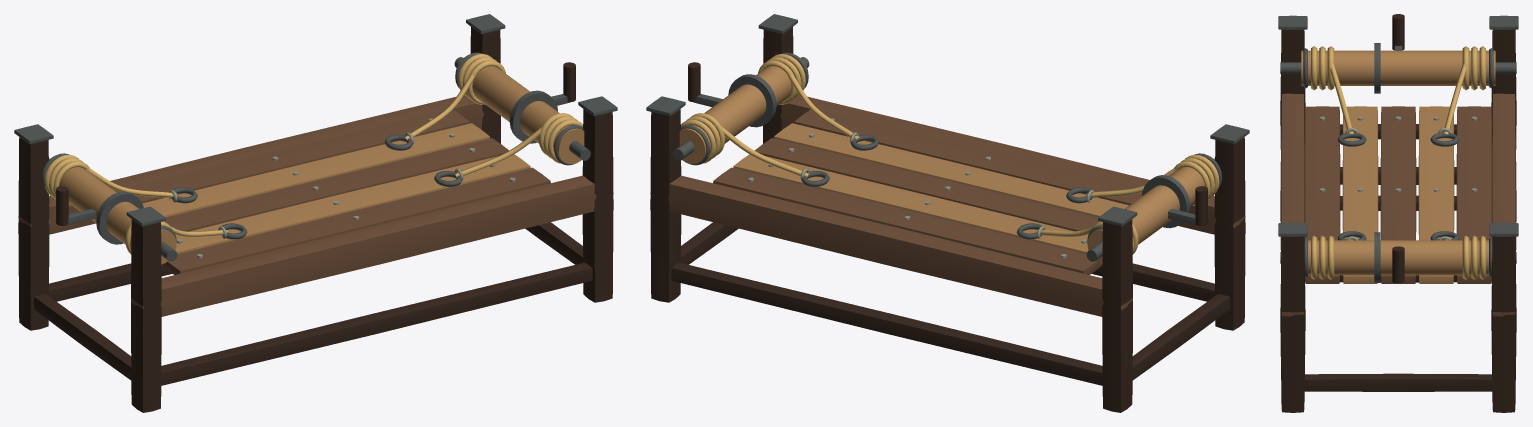
File: detail_dungeon_rack.glb
3 views of the same model, side by side, from view 1: azimuth 30°, elevation 25°; view 2: azimuth 150°, elevation 25°; view 3: azimuth 270°, elevation 25° (orthographic). The views are drawn at different scales.
Visible parts, largest first — view 1: wood, metal, cloth; view 2: wood, metal, cloth; view 3: wood, metal, cloth.
Part boxes in pixels (x1=…): wood: x1=18, y1=27, x2=613, y2=412; metal: x1=14, y1=14, x2=617, y2=264; cloth: x1=44, y1=54, x2=582, y2=254; wood: x1=650, y1=27, x2=1245, y2=412; metal: x1=646, y1=14, x2=1249, y2=264; cloth: x1=681, y1=54, x2=1219, y2=254; wood: x1=1280, y1=14, x2=1516, y2=412; metal: x1=1278, y1=15, x2=1518, y2=282; cloth: x1=1311, y1=46, x2=1485, y2=279.
Bounding box in the file's own units: 2.8 × 1 × 1.2.
